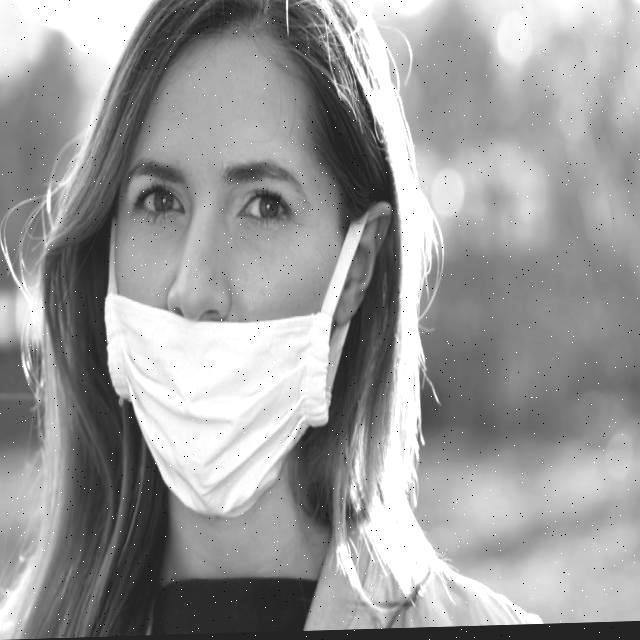mask: (90, 316, 372, 519), (489, 510, 490, 511)
no_gloves: (100, 0, 432, 127)
